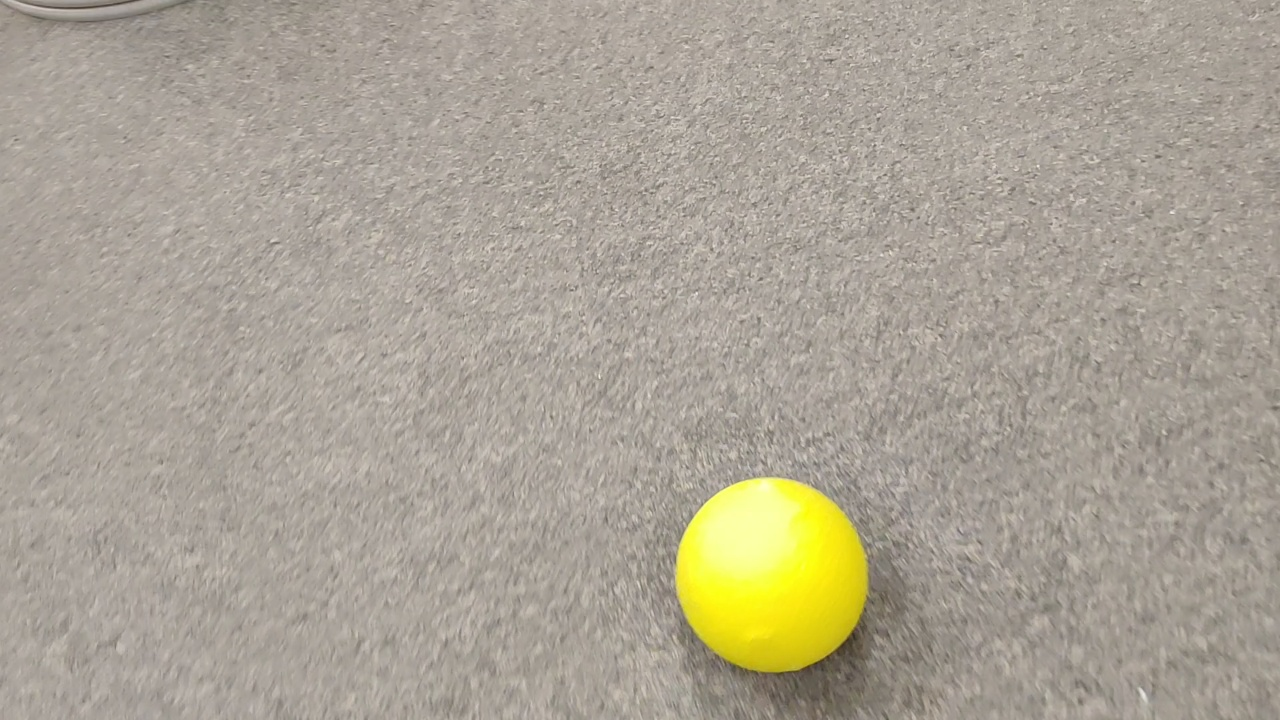Ball: (675, 478, 872, 672)
